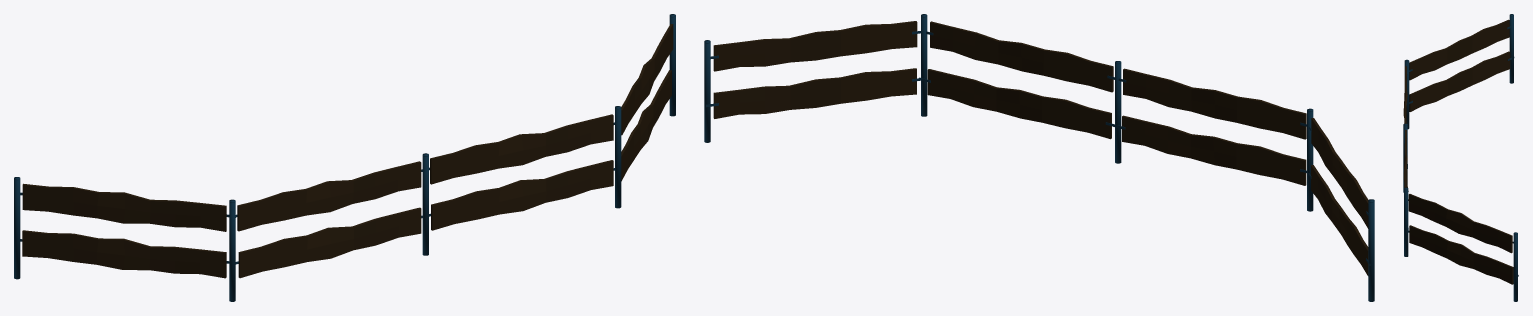
Rendered from edap-fence-wood_LOD01.gltf.
3 views of the same model, side by side, from view 1: azimuth 30°, elevation 25°; view 2: azimuth 150°, elevation 25°; view 3: azimuth 270°, elevation 25° (orthographic). The views are drawn at different scales.
Visible parts, largest first — view 1: wooden beam.009, wooden beam.008, wooden beam.010, wooden beam.013, wooden beam.011, wooden beam.014, wooden beam.012, wooden beam.015, post.005, post.004, post.006, post.003 (+1 smaller); view 2: wooden beam.015, wooden beam.012, wooden beam.014, wooden beam.013, wooden beam.011, wooden beam.010, wooden beam.009, wooden beam.008, post.003, post.009, post.006, post.005 (+1 smaller); view 3: wooden beam.012, wooden beam.015, wooden beam.009, wooden beam.008, post.009, post.006, post.003, post.004, post.005, wooden beam.011, wooden beam.010.
Part boxes in pixels (x1=…): wooden beam.009: x1=20, y1=230, x2=229, y2=278; wooden beam.008: x1=20, y1=183, x2=235, y2=231; wooden beam.010: x1=236, y1=161, x2=422, y2=231; wooden beam.013: x1=235, y1=207, x2=422, y2=278; wooden beam.011: x1=429, y1=114, x2=614, y2=184; wooden beam.014: x1=429, y1=160, x2=614, y2=230; wooden beam.012: x1=621, y1=24, x2=673, y2=135; wooden beam.015: x1=621, y1=70, x2=671, y2=181; post.005: x1=422, y1=153, x2=428, y2=255; post.004: x1=229, y1=199, x2=235, y2=301; post.006: x1=615, y1=106, x2=621, y2=208; post.003: x1=14, y1=177, x2=20, y2=279; wooden beam.015: x1=706, y1=68, x2=921, y2=118; wooden beam.012: x1=710, y1=21, x2=921, y2=71; wooden beam.014: x1=919, y1=69, x2=1114, y2=139; wooden beam.013: x1=1113, y1=115, x2=1306, y2=185; wooden beam.011: x1=926, y1=21, x2=1118, y2=92; wooden beam.010: x1=1119, y1=68, x2=1306, y2=139; wooden beam.009: x1=1308, y1=165, x2=1370, y2=275; wooden beam.008: x1=1309, y1=118, x2=1368, y2=228; post.003: x1=1368, y1=199, x2=1374, y2=301; post.009: x1=704, y1=40, x2=710, y2=142; post.006: x1=921, y1=14, x2=927, y2=116; post.005: x1=1115, y1=61, x2=1121, y2=163; wooden beam.012: x1=1408, y1=194, x2=1513, y2=253; wooden beam.015: x1=1408, y1=225, x2=1518, y2=284; wooden beam.009: x1=1406, y1=51, x2=1514, y2=111; wooden beam.008: x1=1409, y1=19, x2=1511, y2=80; post.009: x1=1513, y1=232, x2=1517, y2=301; post.006: x1=1404, y1=187, x2=1408, y2=256; post.003: x1=1509, y1=14, x2=1513, y2=83; post.004: x1=1404, y1=59, x2=1409, y2=129; post.005: x1=1403, y1=123, x2=1407, y2=192; wooden beam.011: x1=1403, y1=130, x2=1407, y2=187; wooden beam.010: x1=1403, y1=66, x2=1407, y2=123.
Size of the model in its own units: 6.97 by 1 by 1.54.
